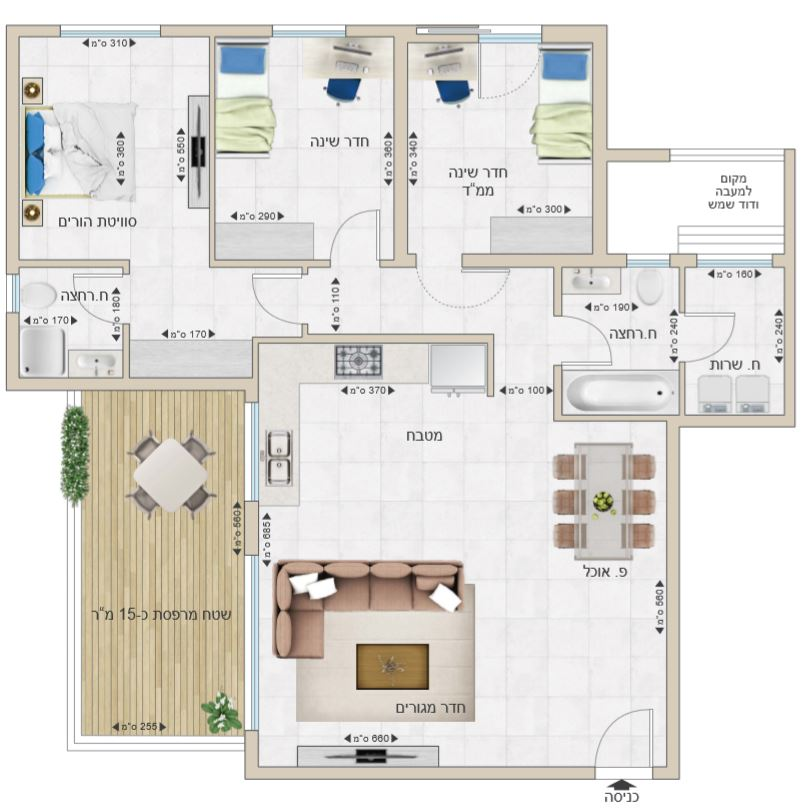door: (590, 704, 659, 763), (61, 270, 120, 330), (242, 270, 301, 330), (325, 204, 384, 264), (565, 309, 624, 369), (684, 306, 743, 366)
wall: (666, 416, 677, 779), (5, 26, 19, 272), (592, 23, 606, 269)
window: (240, 554, 261, 729), (240, 404, 261, 503), (695, 253, 776, 272), (61, 24, 161, 39), (469, 26, 542, 44), (271, 25, 343, 40), (626, 254, 670, 273), (5, 271, 22, 316)
